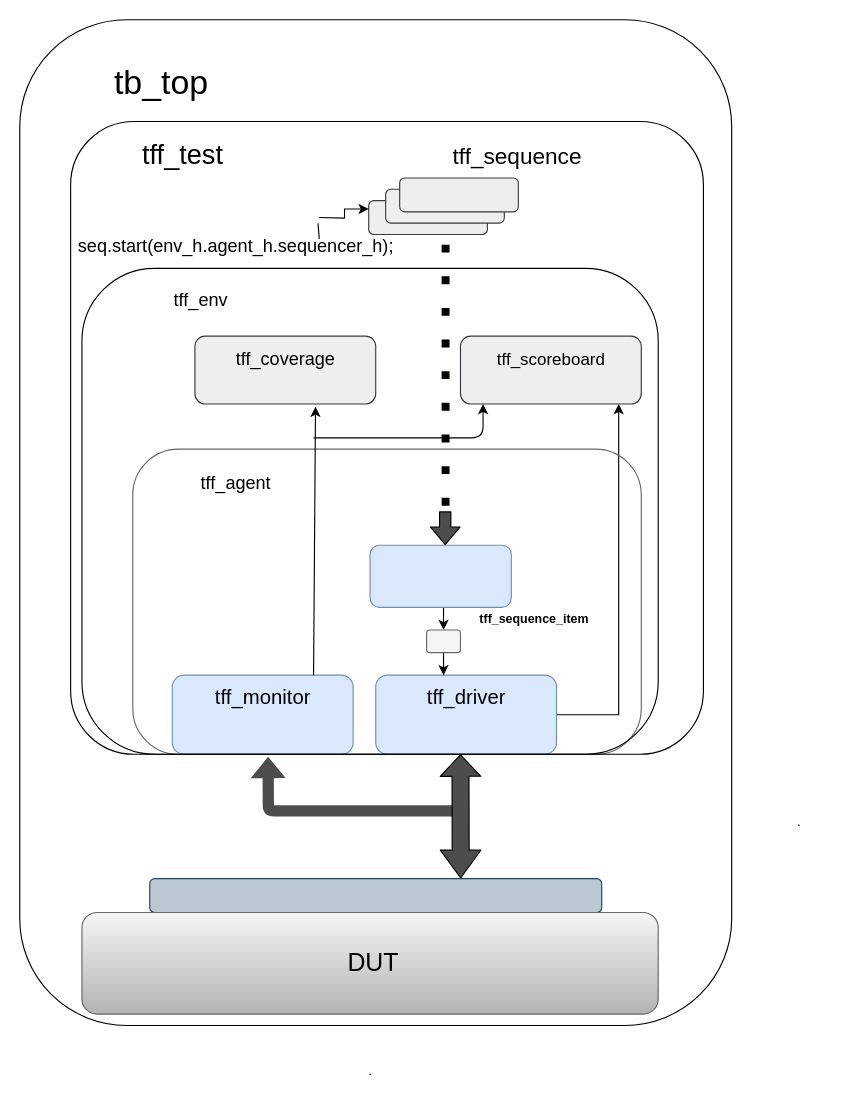
Image size: 842x1102. Some labels were removed from this diagram. Each missing label, with the centre of its shape:
"interface" goes at [375,894].
"tff_sequencer" goes at [440,575].
